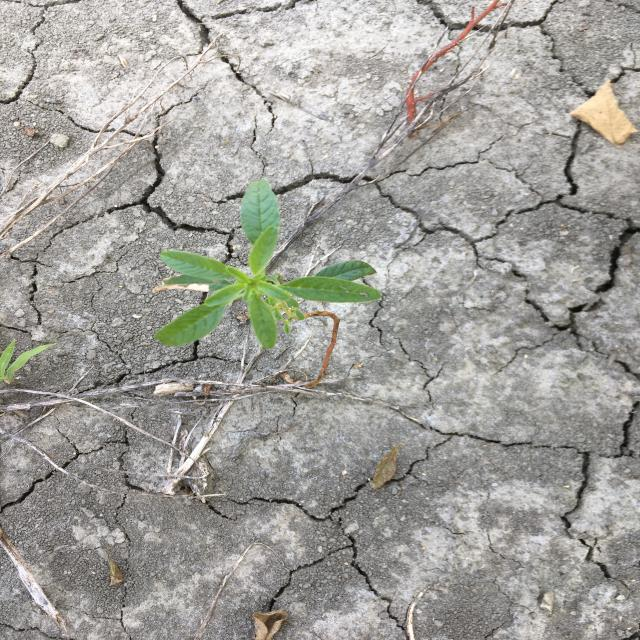Waterhemp: (151, 178, 385, 352)
